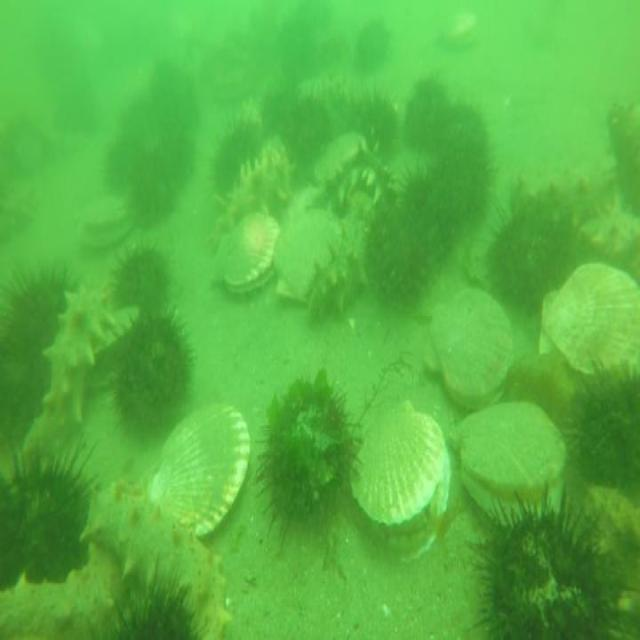echinus: (468, 482, 625, 640), (255, 368, 359, 548), (0, 442, 90, 578), (110, 308, 195, 449), (482, 191, 585, 307), (569, 353, 640, 485), (362, 191, 436, 313), (0, 262, 71, 373), (389, 160, 463, 260), (101, 569, 198, 640), (110, 240, 171, 324), (209, 112, 268, 188), (403, 71, 453, 160), (280, 87, 331, 171), (438, 98, 494, 174), (347, 82, 401, 158), (147, 54, 199, 128), (150, 117, 197, 196), (257, 76, 303, 142), (132, 158, 174, 228), (105, 130, 148, 192), (353, 14, 395, 74)
holothurian: (82, 479, 234, 640), (0, 542, 126, 640), (38, 276, 104, 434), (503, 348, 595, 455), (305, 182, 375, 316), (582, 480, 640, 637), (210, 139, 290, 247), (516, 148, 620, 223), (578, 202, 640, 282), (606, 92, 640, 199)
scallop: (349, 397, 451, 572), (450, 401, 570, 536), (146, 397, 252, 542), (538, 254, 640, 377), (427, 284, 519, 410), (270, 206, 342, 306), (205, 209, 282, 297), (84, 303, 140, 389), (76, 194, 138, 254), (315, 131, 368, 188), (443, 6, 480, 56)
